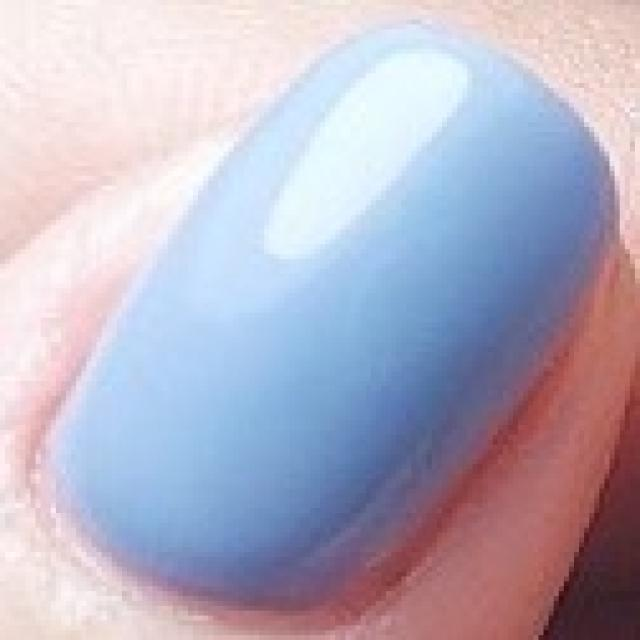Nail: (40, 22, 623, 617)
